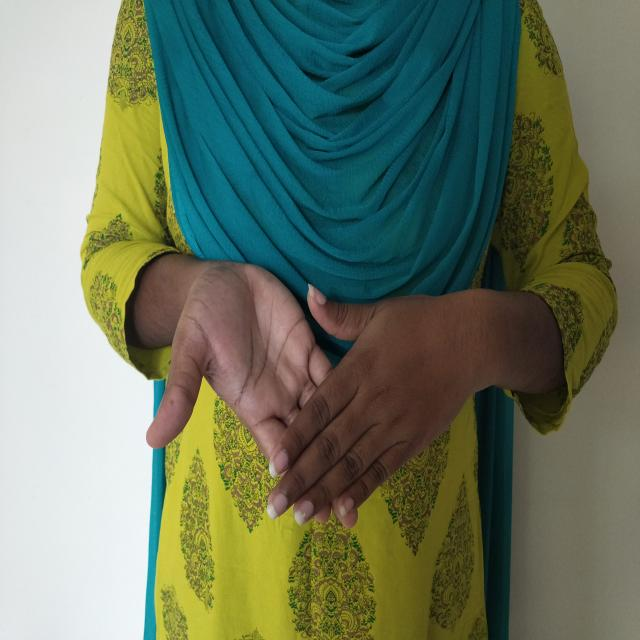H: (135, 245, 489, 549)
